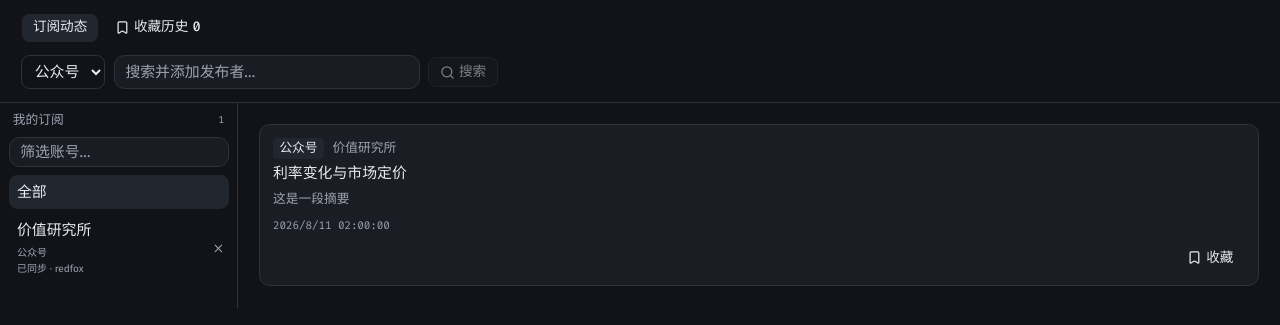
SocialPanel 统一订阅动态 › 取消订阅后会立即从当前时间流移除内容
The width and height of the screenshot is (1280, 325).
Expected: the heading "利率变化与市场定价" is shown, [273,164,407,182]
Click the button named "取消订阅 价值研究所": (218, 248) [207,238,229,259]
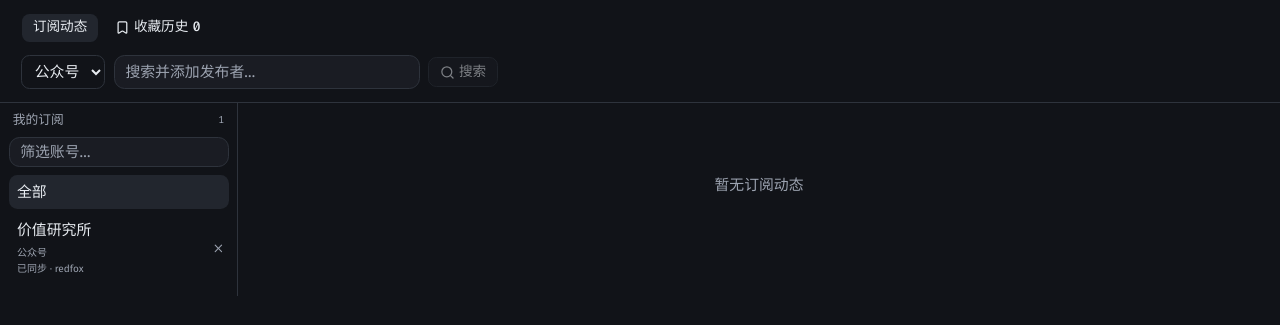
Now the button "利率变化与市场定价" is gone
